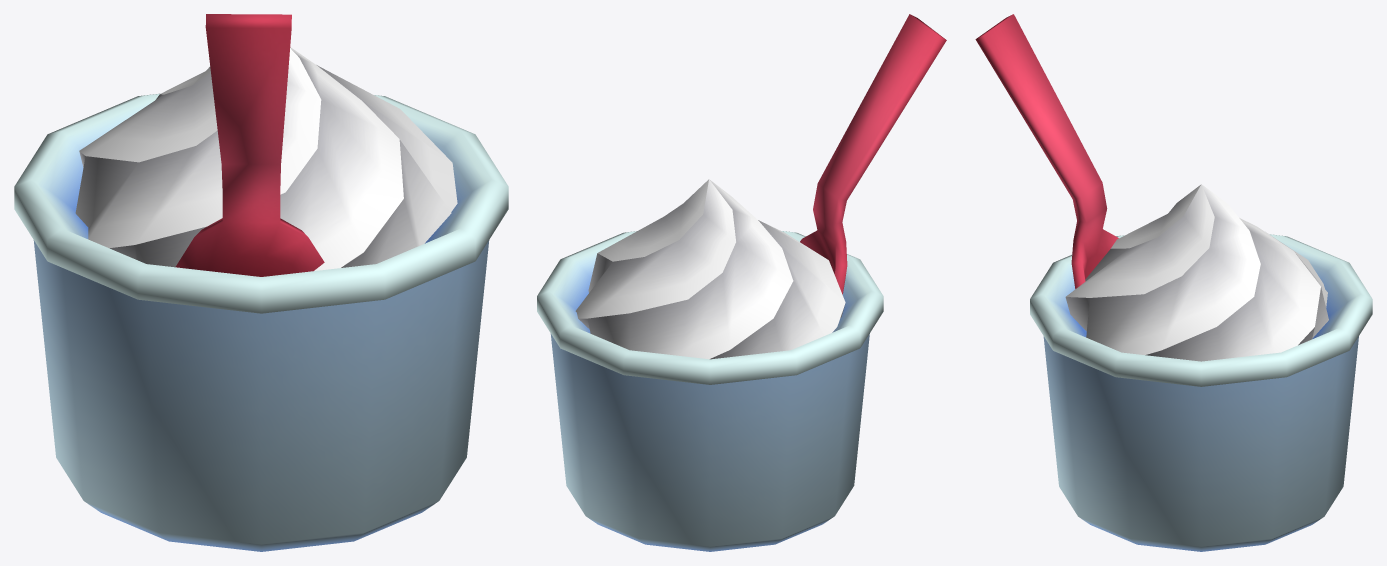
File: m_FrozenYoghurt01.fbx
The picture shows the model from 3 angles, left to right: view 1: azimuth 30°, elevation 25°; view 2: azimuth 150°, elevation 25°; view 3: azimuth 270°, elevation 25°; orthographic projection. The views are drawn at different scales.
Parts seen in each view (by area): view 1: m_FrozenYoghurt01; view 2: m_FrozenYoghurt01; view 3: m_FrozenYoghurt01.
Boxes of the visible parts, x1=… form: m_FrozenYoghurt01: x1=14, y1=14, x2=508, y2=551; m_FrozenYoghurt01: x1=537, y1=14, x2=946, y2=551; m_FrozenYoghurt01: x1=975, y1=14, x2=1372, y2=551.
Size of the model in its own units: 13.65 by 18.45 by 15.83.
